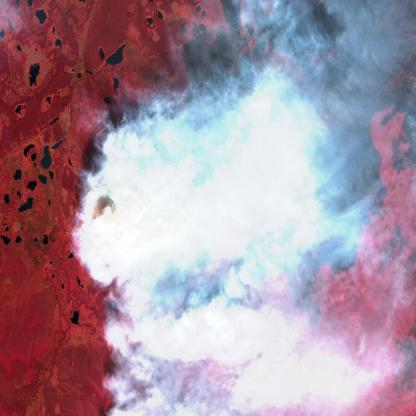fire: (78, 89, 291, 354)
